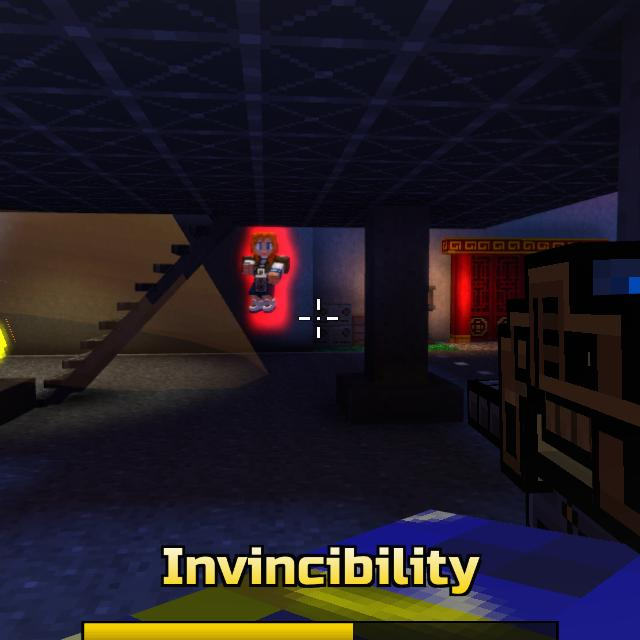Enemy: (241, 233, 290, 313)
